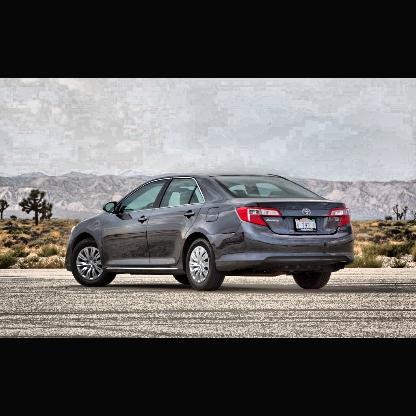Toyota Camry Sedan 2012: (65, 173, 355, 293)
